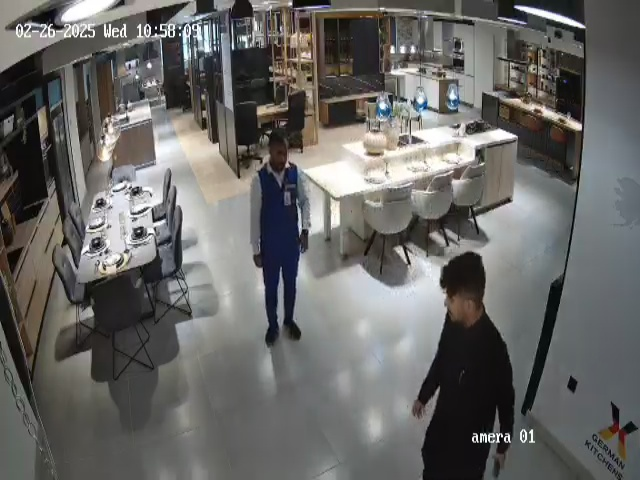employee: (250, 130, 311, 346)
male: (411, 251, 516, 480)
